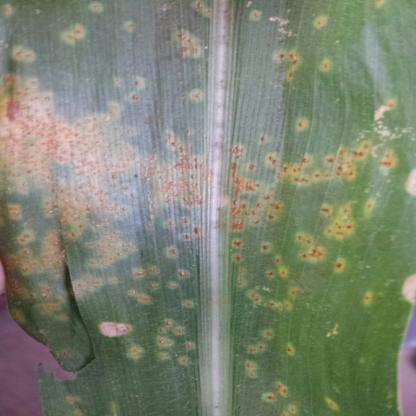corn rust leaf: (4, 1, 412, 414)
